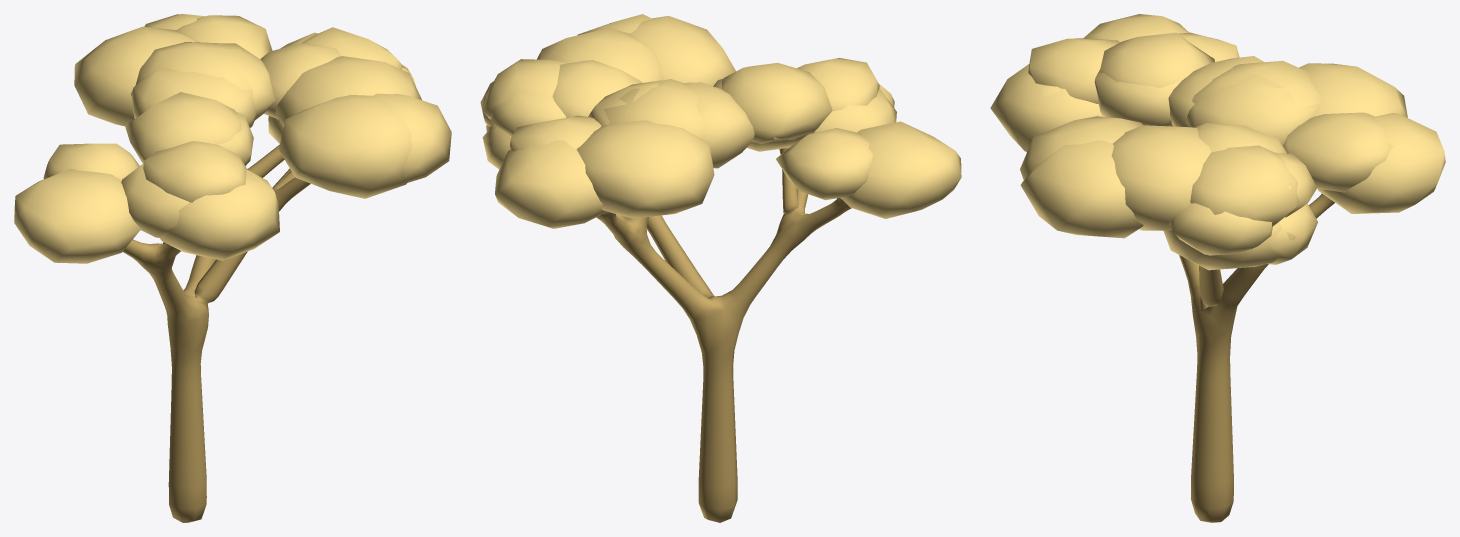
File: tree_broadleaf.glb
The picture shows the model from 3 angles, left to right: view 1: azimuth 30°, elevation 25°; view 2: azimuth 150°, elevation 25°; view 3: azimuth 270°, elevation 25°; orthographic projection. The views are drawn at different scales.
Parts seen in each view (by area): view 1: foliage, trunk; view 2: foliage, trunk; view 3: foliage, trunk.
Boxes of the visible parts, left/top/right/bottom form: foliage: left=14, top=14, right=451, bottom=263; trunk: left=123, top=144, right=310, bottom=522; foliage: left=480, top=14, right=961, bottom=228; trunk: left=596, top=147, right=851, bottom=522; foliage: left=990, top=14, right=1445, bottom=270; trunk: left=1179, top=194, right=1334, bottom=522.
Size of the model in its own units: 6.15 by 6.18 by 5.4.
